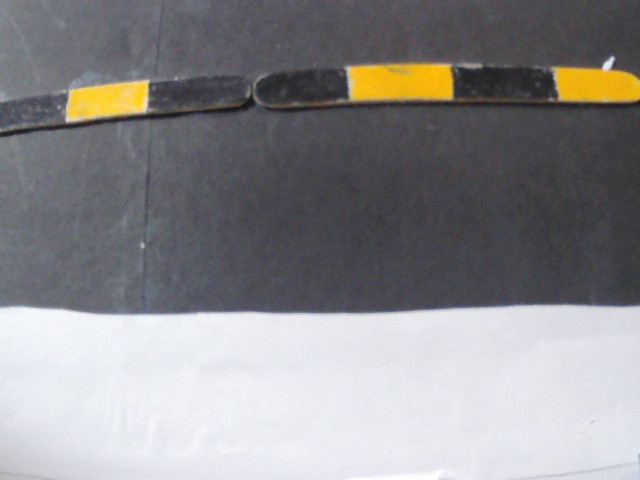black_strip: (453, 64, 555, 108), (149, 77, 243, 115), (257, 72, 347, 99), (1, 97, 65, 126)
mixed_lane: (3, 62, 633, 124)
yellow_strip: (347, 64, 449, 106), (559, 64, 639, 106), (67, 91, 144, 120)
